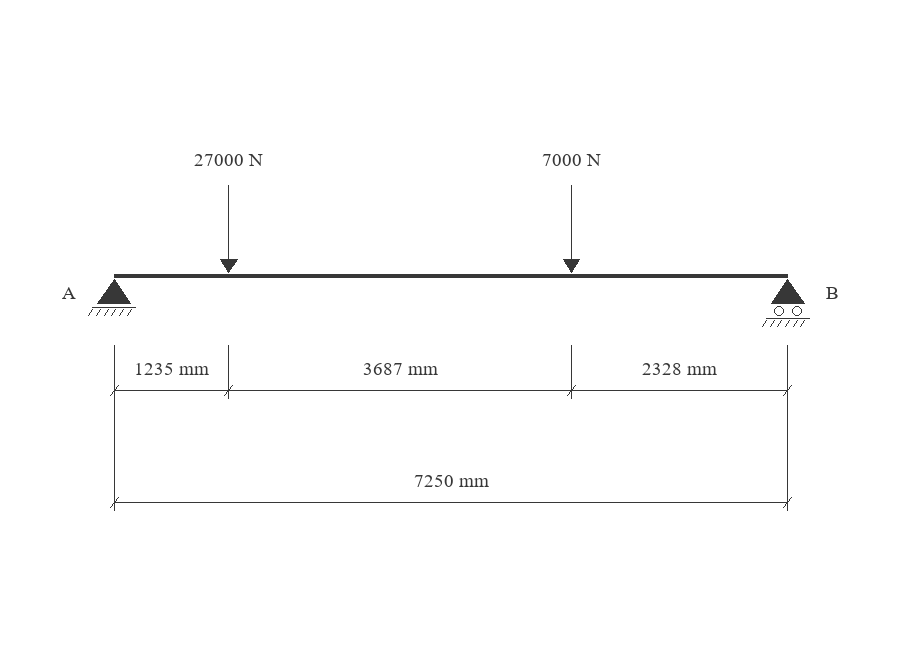pin_support: (88, 279, 136, 316)
point_load: (220, 185, 238, 273), (563, 185, 580, 273)
roller_support: (762, 279, 810, 327)
